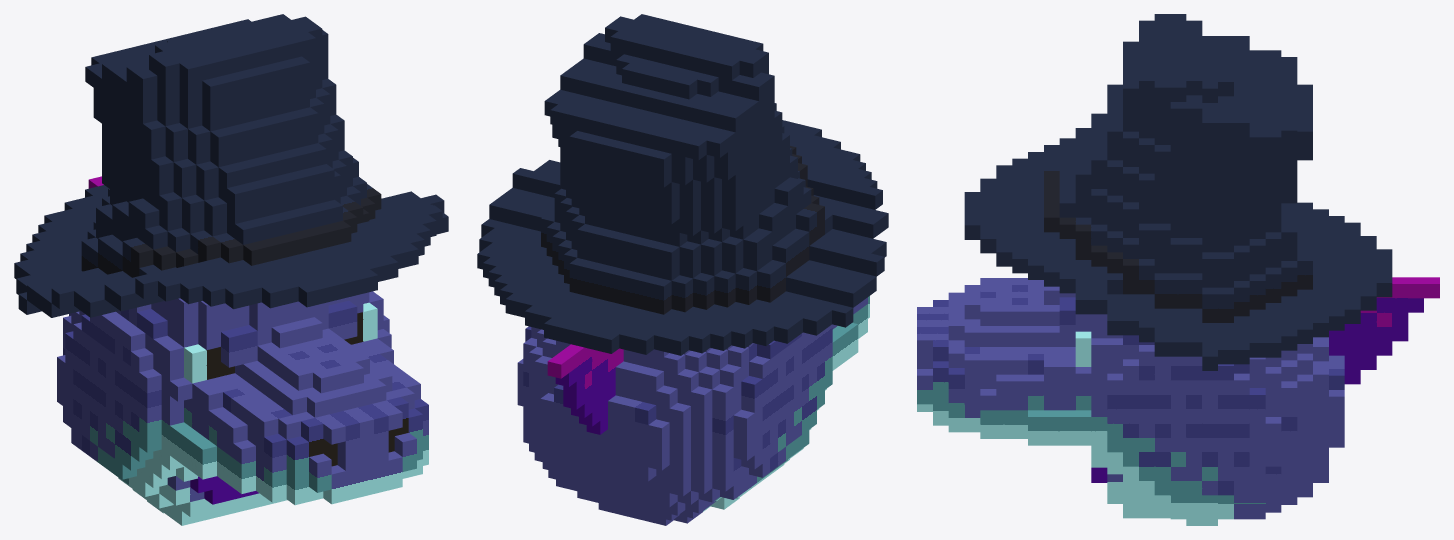
File: top hat_lazer light.gltf
3 renders of one model, left to right at view 1: azimuth 30°, elevation 25°; view 2: azimuth 150°, elevation 25°; view 3: azimuth 270°, elevation 25°, orthographic. The views are drawn at different scales.
Parts seen in each view (by area): view 1: C54_H_TopH_RedG_RBSpec_SkyD_LazerL-Mesh; view 2: C54_H_TopH_RedG_RBSpec_SkyD_LazerL-Mesh; view 3: C54_H_TopH_RedG_RBSpec_SkyD_LazerL-Mesh.
Part boxes in pixels (x1,y1,x2,y2): C54_H_TopH_RedG_RBSpec_SkyD_LazerL-Mesh: (14,14,448,525); C54_H_TopH_RedG_RBSpec_SkyD_LazerL-Mesh: (477,14,888,525); C54_H_TopH_RedG_RBSpec_SkyD_LazerL-Mesh: (917,14,1439,525).
Size of the model in its own units: 27 by 31 by 33.
1 material, 1 textured.
